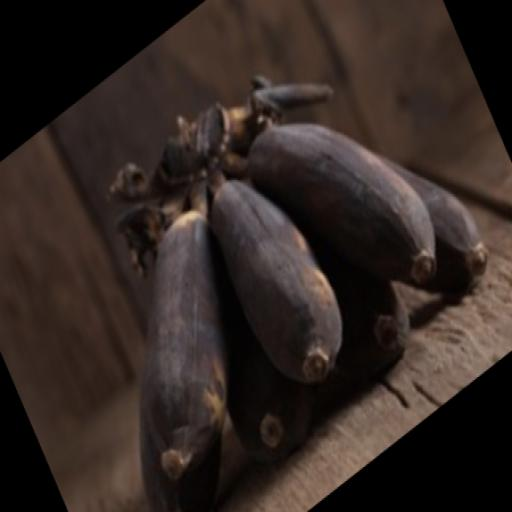banana-overripe: (80, 15, 505, 512)
